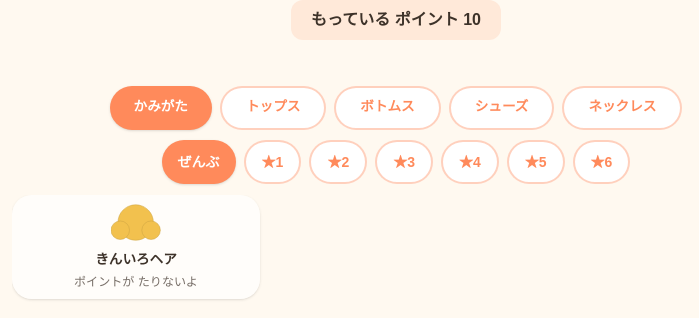
Test: an item the child cannot afford is not bought
The image size is (699, 318).
Click the button "きんいろヘア ポイントが たりないよ" at (136, 247), box [12,195,260,299]
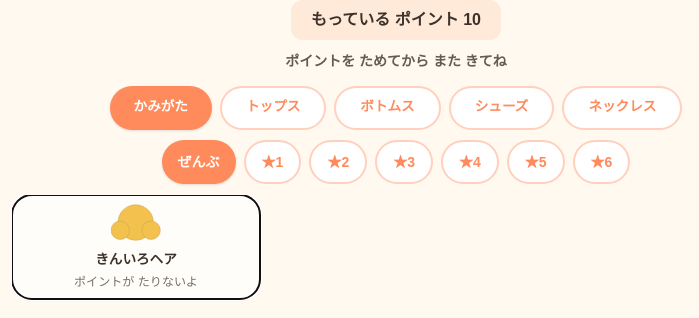
expect the text "ポイントが たりないよ" is shown: met, box [74,274,198,290]
expect the text "ポイントを ためてから また きてね" is shown: met, box [285,51,507,75]
